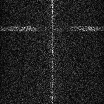wifi: (1, 26, 104, 30)
